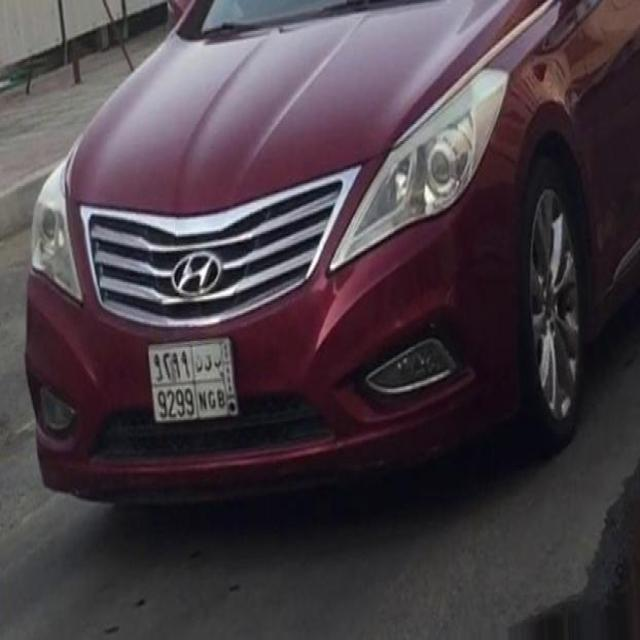Car-plate: (140, 318, 254, 436)
